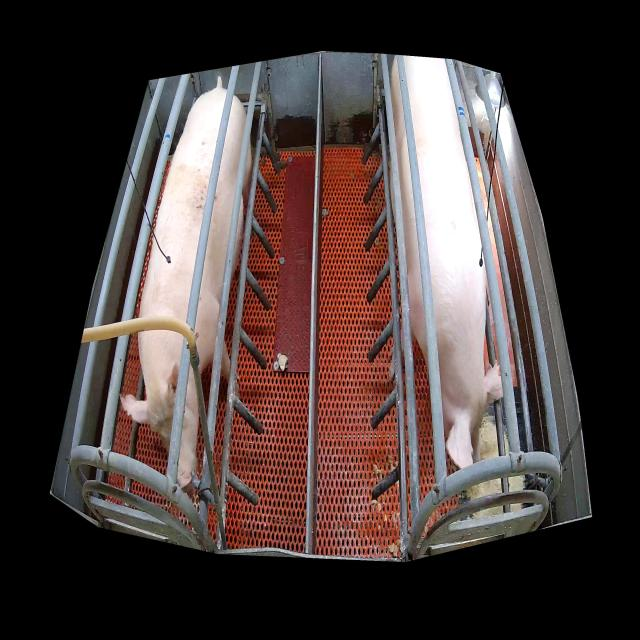pig: (120, 89, 252, 489), (390, 57, 504, 468)
